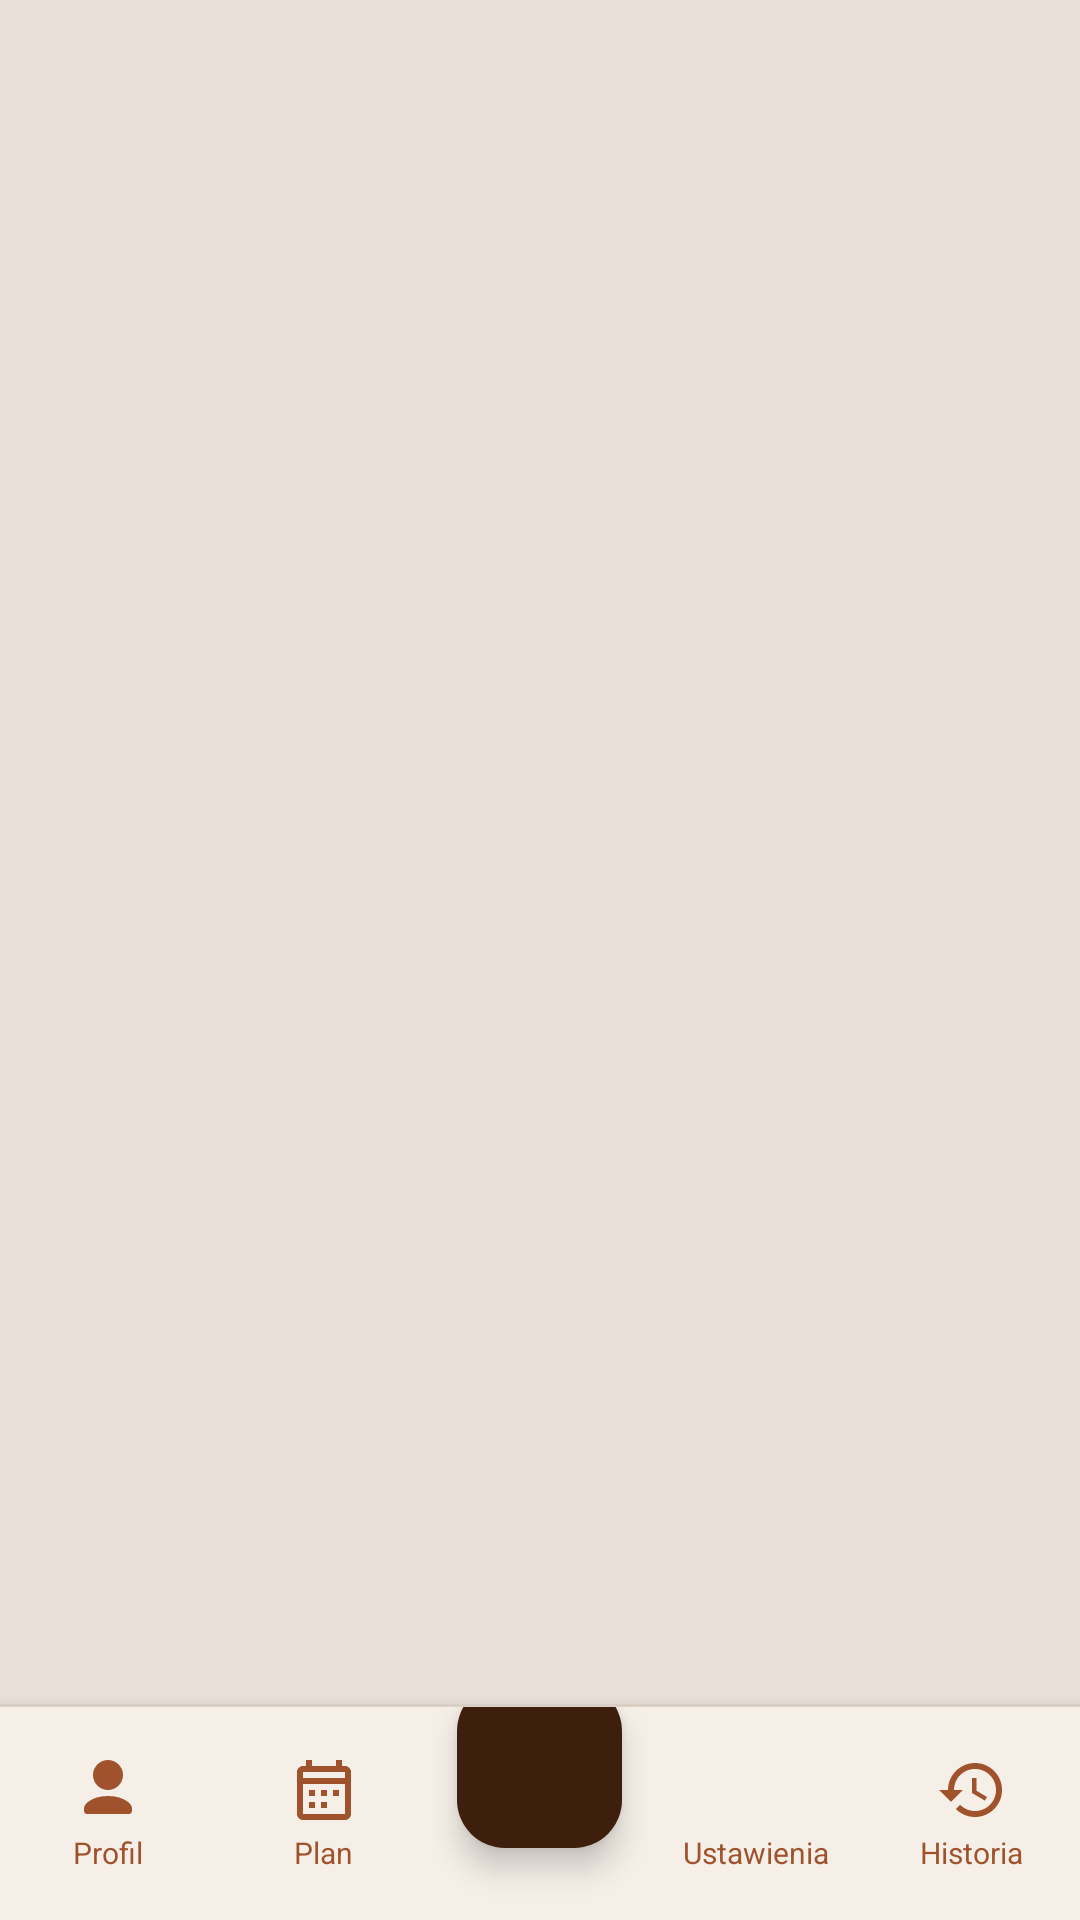

Named icons in this screenshot (1080*1920) and their centers, [x,y]:
calendar: [324,1790]
